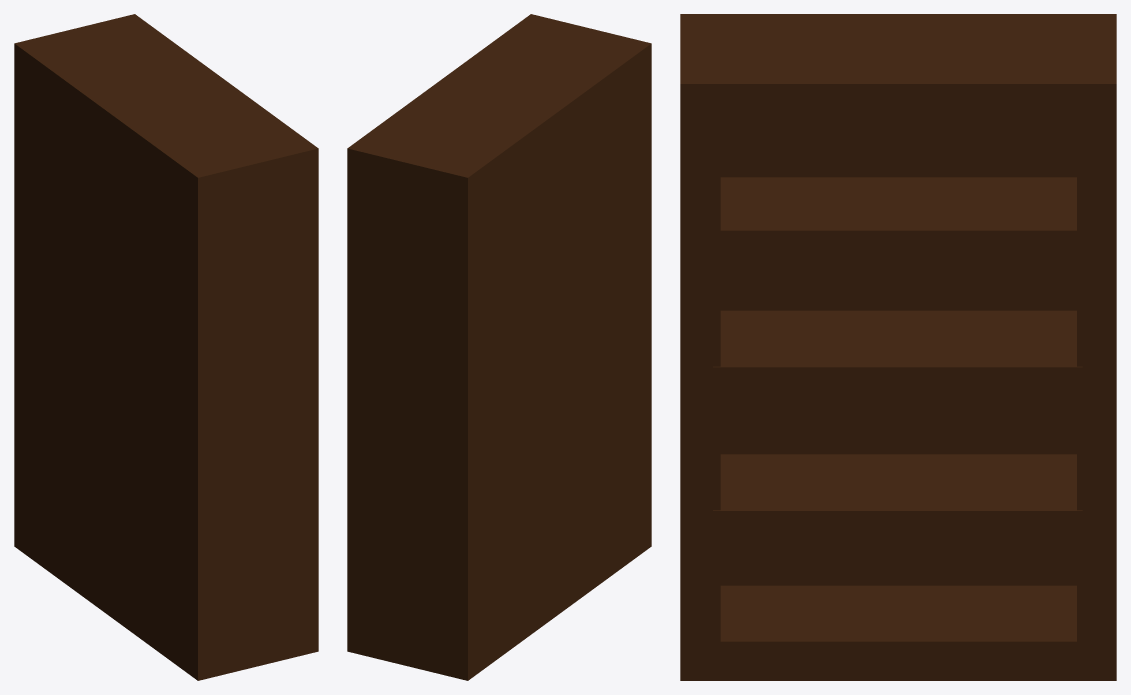
Rendered from Bookshelf.fbx.
The picture shows the model from 3 angles, left to right: view 1: azimuth 30°, elevation 25°; view 2: azimuth 150°, elevation 25°; view 3: azimuth 270°, elevation 25°; orthographic projection. The views are drawn at different scales.
Parts seen in each view (by area): view 1: Cube; view 2: Cube; view 3: Cube.
Boxes of the visible parts, x1,y1,x2,y2 form: Cube: (14, 14, 318, 680); Cube: (347, 14, 651, 680); Cube: (680, 14, 1116, 680).
Size of the model in its own units: 93.99 by 372 by 246.
